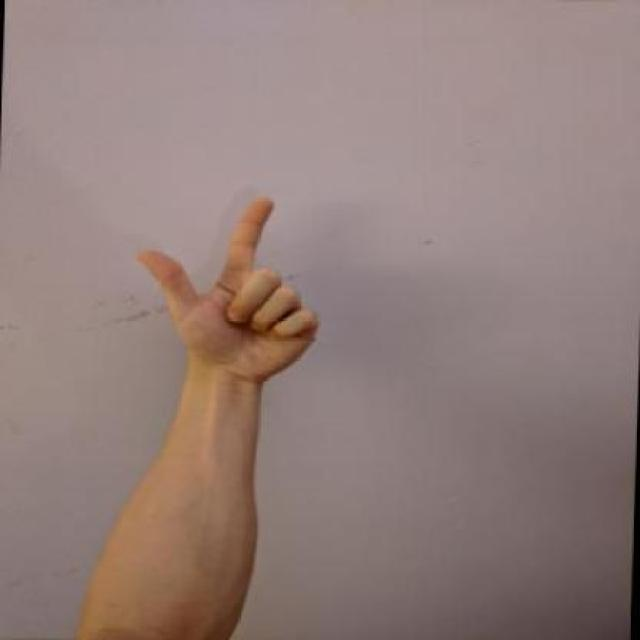L: (126, 190, 329, 385)
